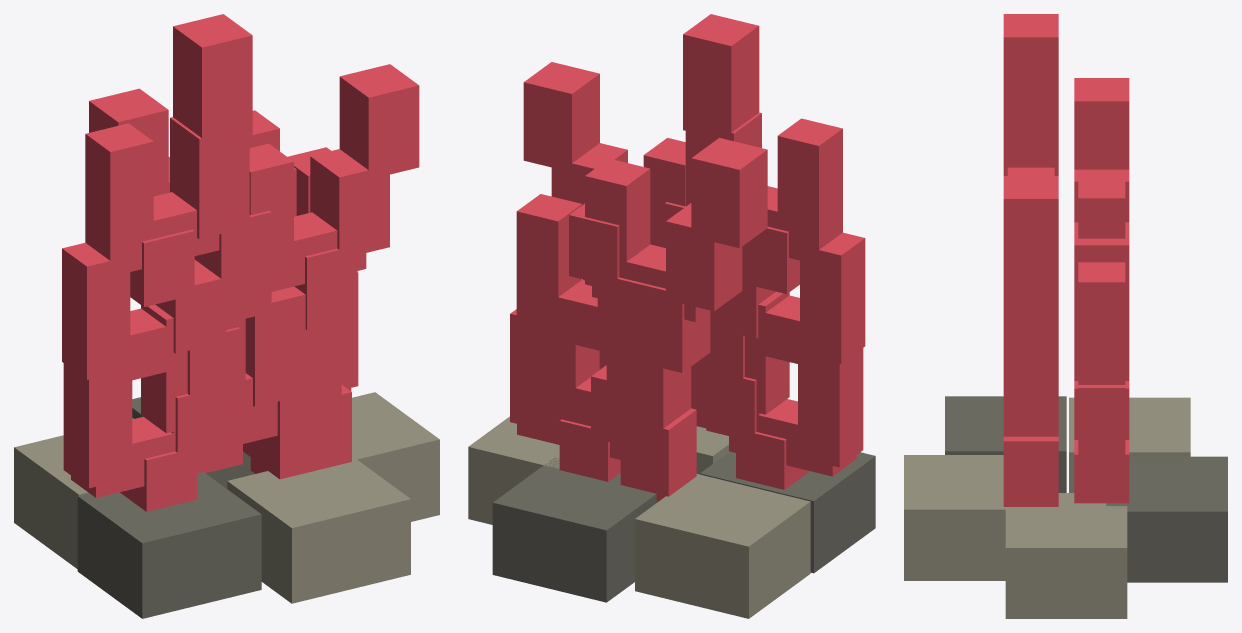
Rendered from coral_kit__coral_0.glb.
3 renders of one model, left to right at view 1: azimuth 30°, elevation 25°; view 2: azimuth 150°, elevation 25°; view 3: azimuth 270°, elevation 25°, orthographic. The views are drawn at different scales.
Visible parts, largest first — view 1: coral_0__coral.001, coral_0__stone.001, coral_0__stone_dark.001; view 2: coral_0__coral.001, coral_0__stone.001, coral_0__stone_dark.001; view 3: coral_0__coral.001, coral_0__stone.001, coral_0__stone_dark.001.
Part boxes in pixels (<box>): coral_0__coral.001: <box>62,14,419,511</box>; coral_0__stone.001: <box>14,392,439,603</box>; coral_0__stone_dark.001: <box>77,397,261,618</box>; coral_0__coral.001: <box>510,14,865,502</box>; coral_0__stone.001: <box>468,416,810,618</box>; coral_0__stone_dark.001: <box>492,451,875,602</box>; coral_0__coral.001: <box>1003,14,1129,506</box>; coral_0__stone.001: <box>904,397,1190,618</box>; coral_0__stone_dark.001: <box>945,396,1227,582</box>.
Size of the model in its own units: 0.9739 by 1.39 by 0.8251.
